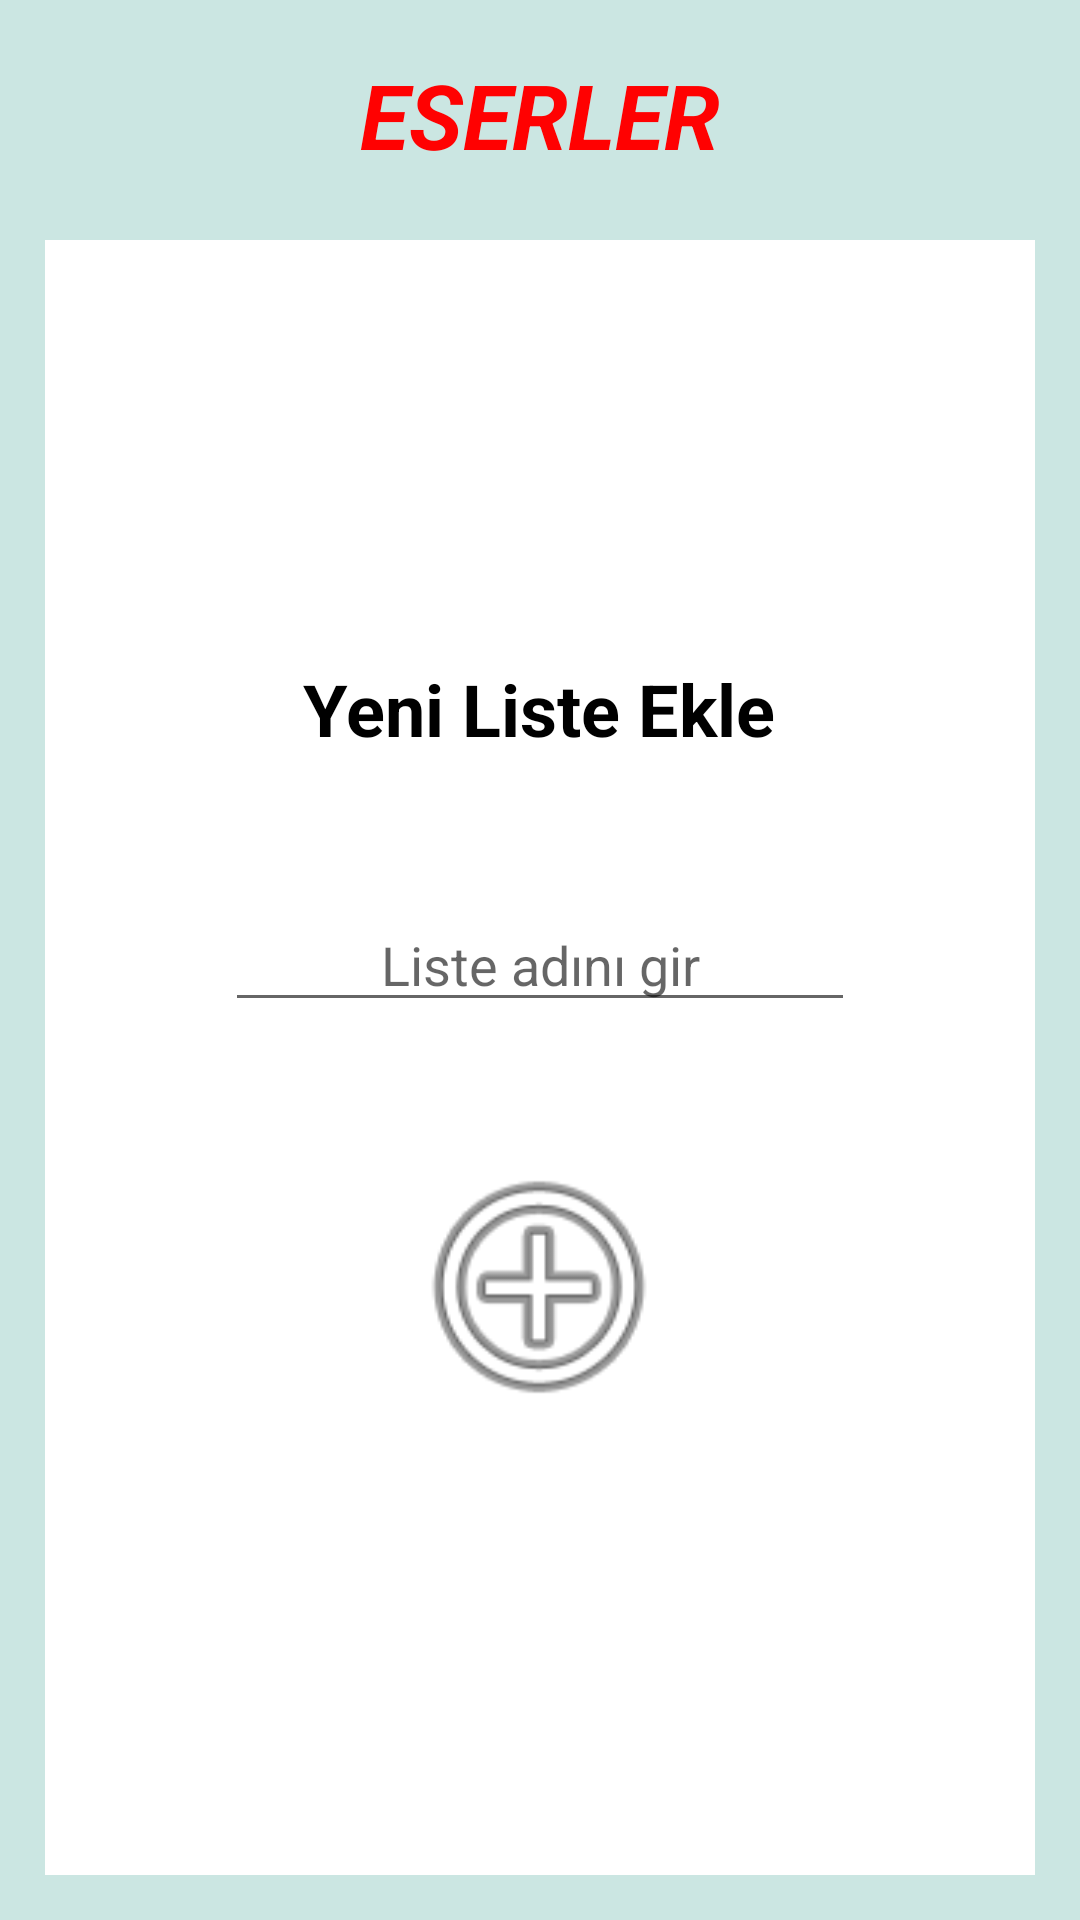

Icon bounding boxes for this 1080 x 1920 phone screenshot, format (x1, y1, x2, y2):
add: (433, 1181, 645, 1393)
